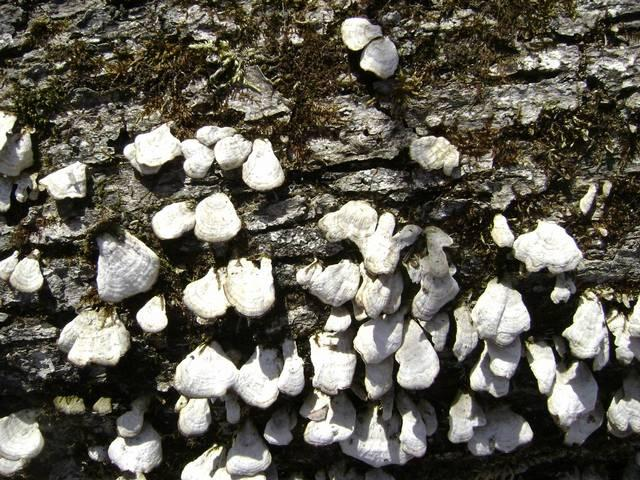Non-edible Mushroom: (3, 102, 640, 480), (339, 15, 400, 81)
